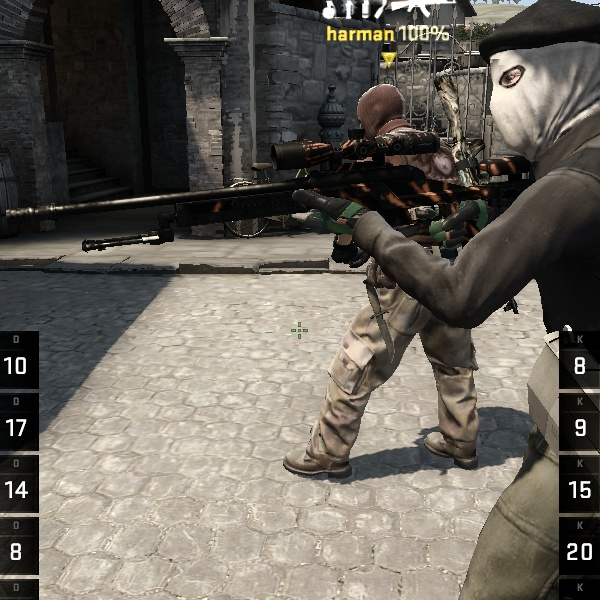t_body: (286, 51, 576, 487)
